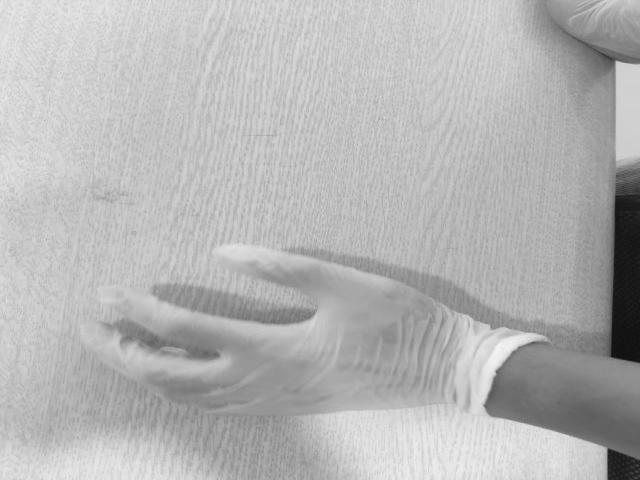gloved: (88, 245, 444, 417)
